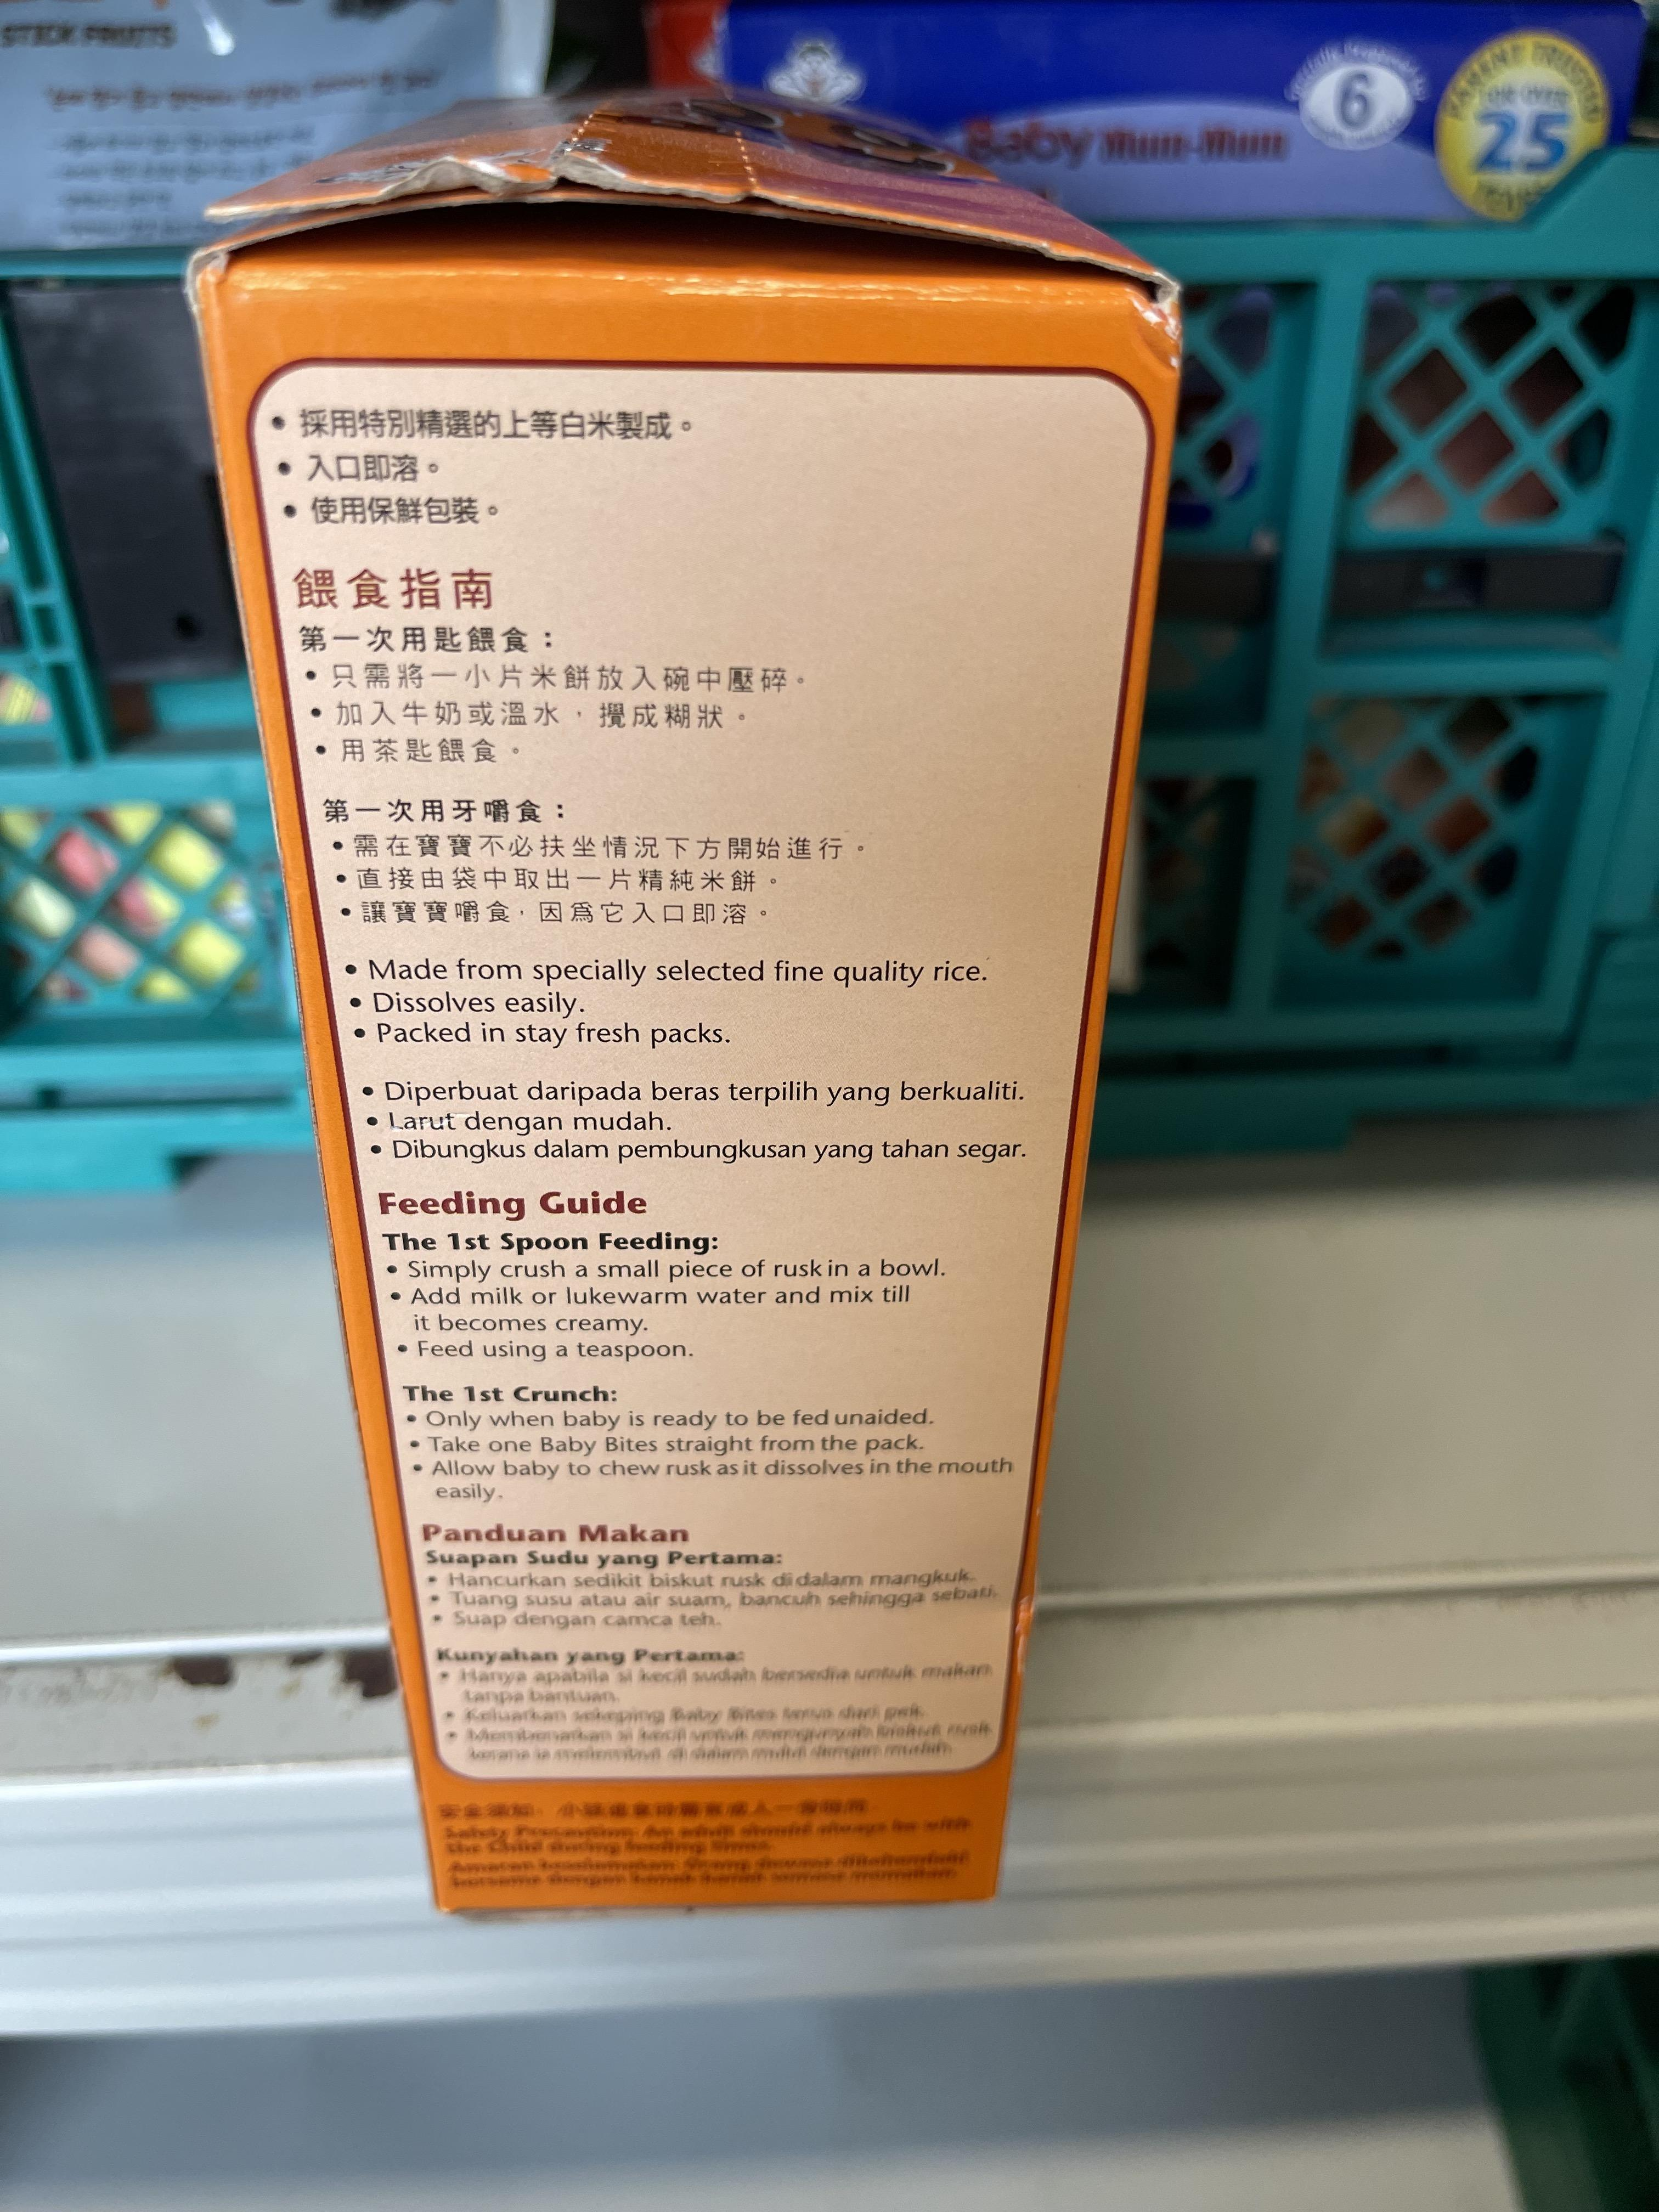object_name: (357, 263, 1131, 1909)
